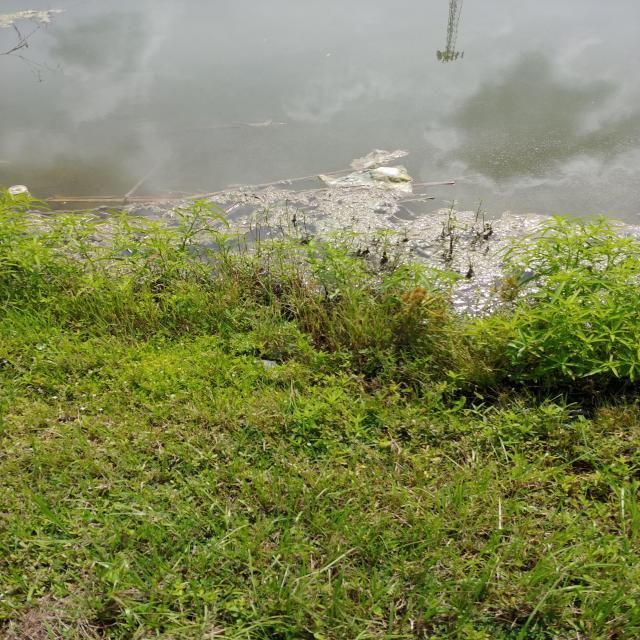litter: (318, 149, 414, 193), (497, 211, 557, 240), (254, 359, 276, 372), (8, 185, 28, 194)
